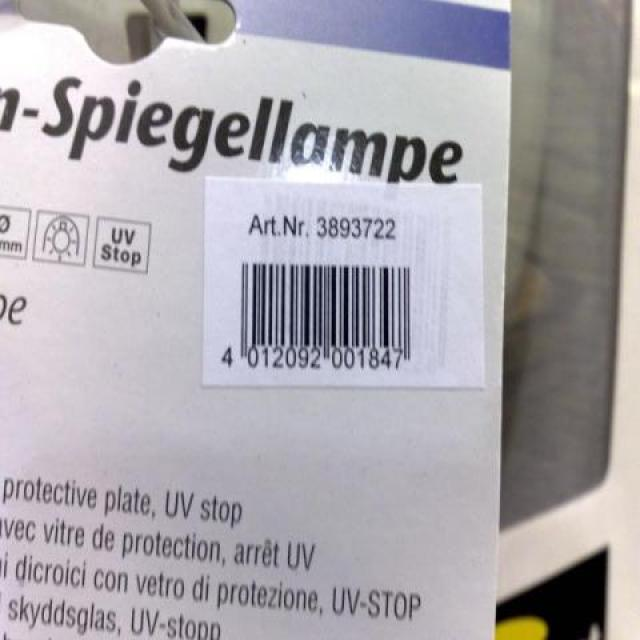Barcode: (214, 244, 437, 379)
